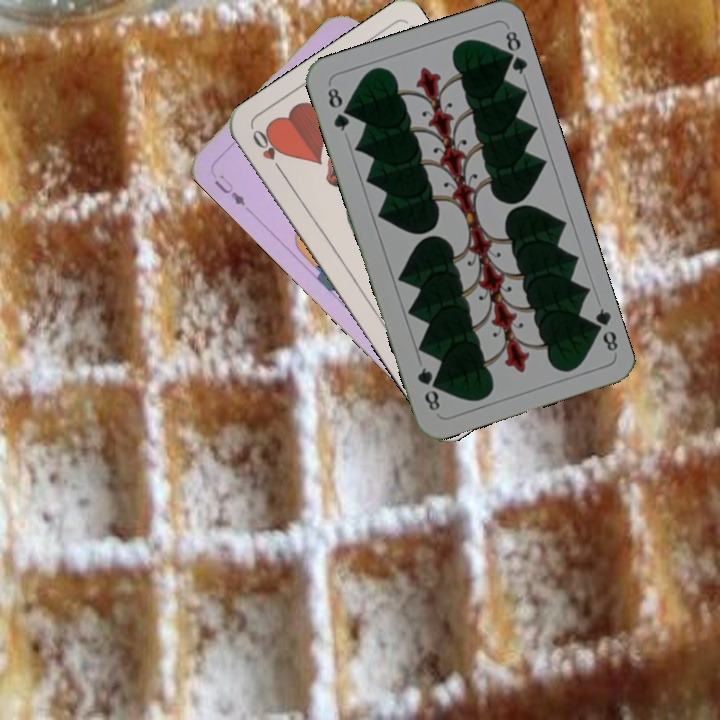EU: (210, 170, 248, 209)
G8: (585, 304, 621, 354), (323, 83, 352, 134)
HO: (248, 125, 287, 177)
